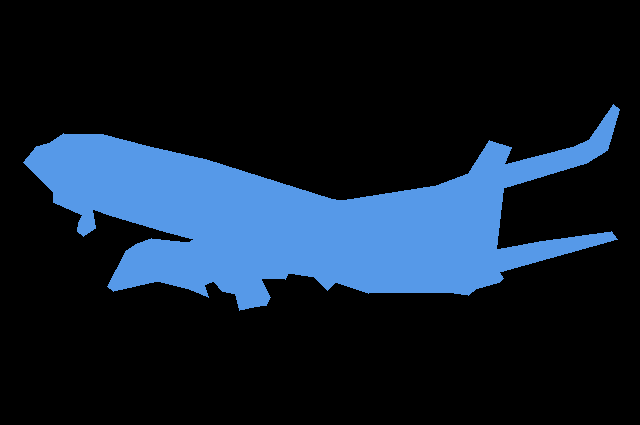Airplane: (23, 104, 619, 310)
